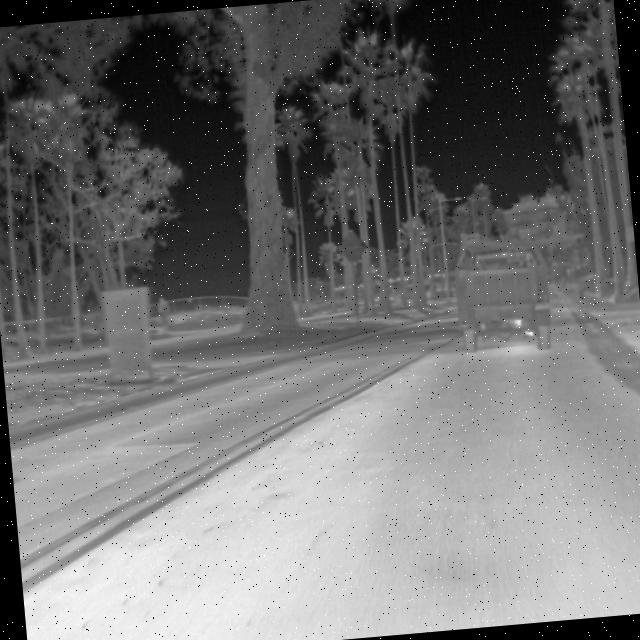Vehicle: (448, 232, 556, 358)
